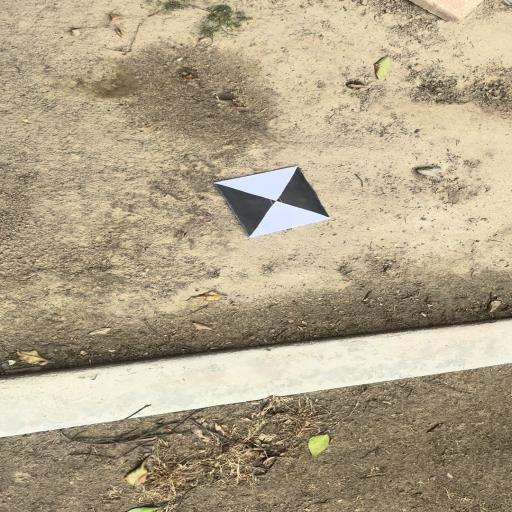target: (214, 167, 333, 238)
